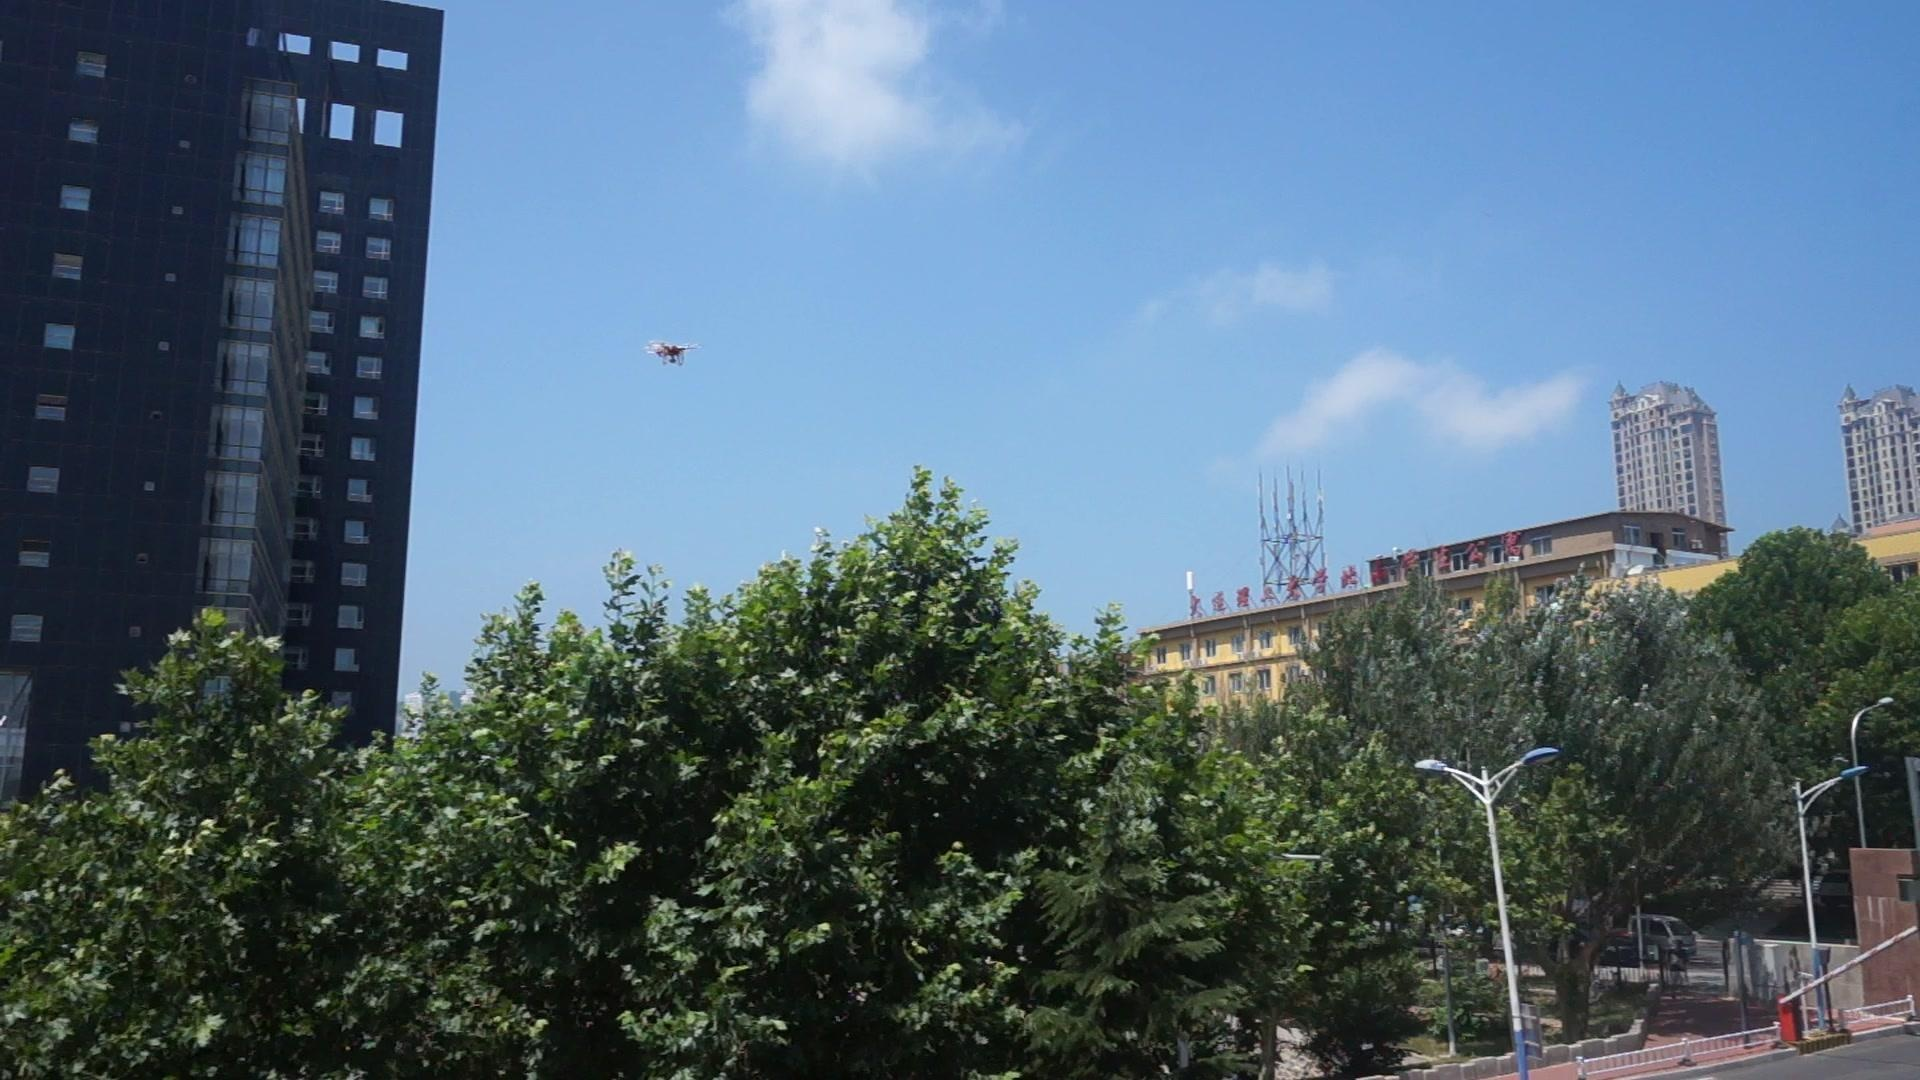UAV: (644, 342, 704, 367)
